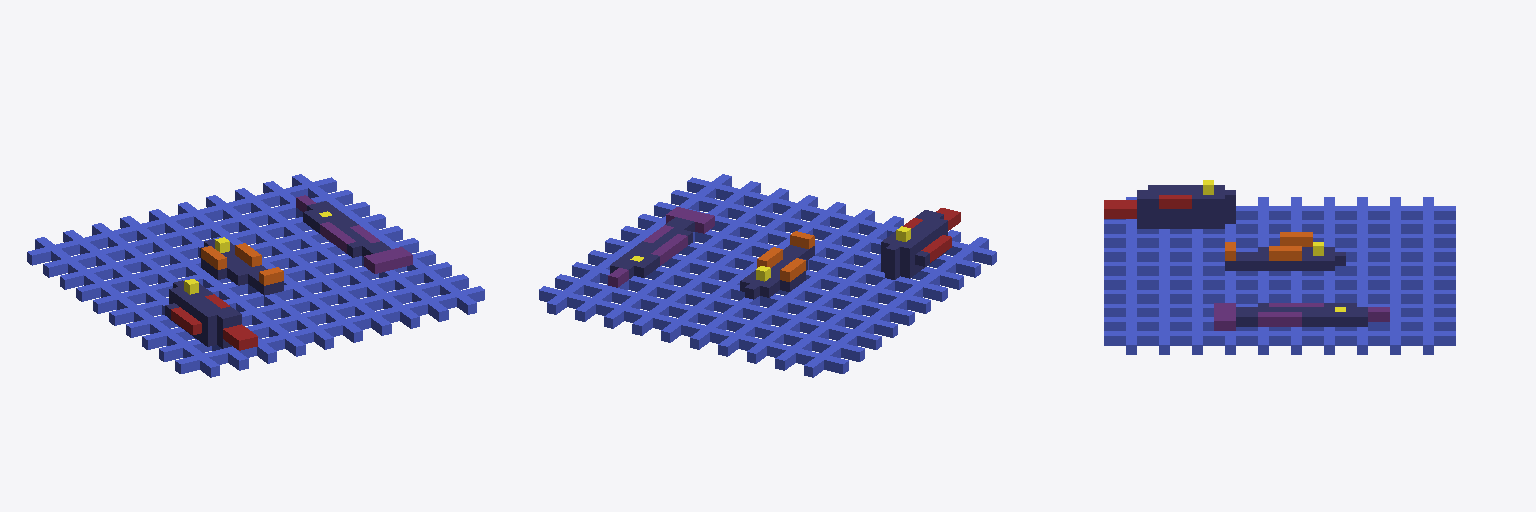
The picture shows the model from 3 angles: view 1: azimuth 30°, elevation 25°; view 2: azimuth 150°, elevation 25°; view 3: azimuth 270°, elevation 25°; orthographic projection.
Parts seen in each view (by area): view 1: object 1; view 2: object 1; view 3: object 1.
Part boxes in pixels (x1,y1,x2,y2): object 1: (27,174,484,377); object 1: (539,174,996,377); object 1: (1104,180,1455,354).
Size of the model in its own units: 3.2 by 0.5 by 3.2.
Materials: 1 (1 with a texture image).